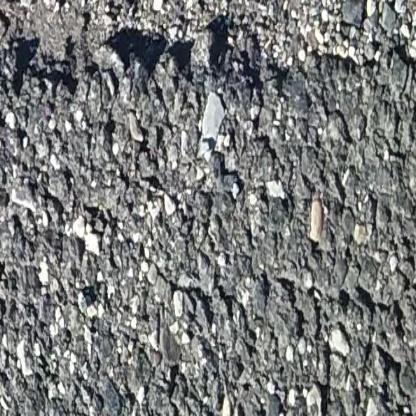Cracks: (0, 0, 416, 89)
